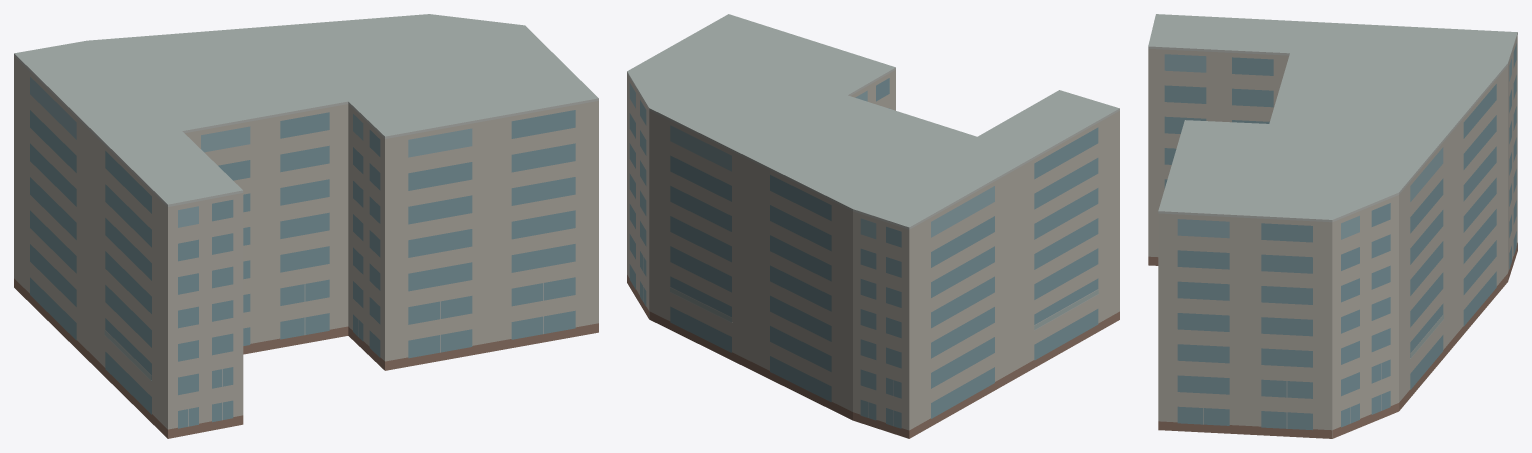
The model's file is survey-upis-32881349.glb.
3 views of the same model, side by side, from view 1: azimuth 30°, elevation 25°; view 2: azimuth 150°, elevation 25°; view 3: azimuth 270°, elevation 25° (orthographic). The views are drawn at different scales.
Parts seen in each view (by area): view 1: survey-upis-32881349.tmp; view 2: survey-upis-32881349.tmp; view 3: survey-upis-32881349.tmp.
Boxes of the visible parts, x1,y1,x2,y2 form: survey-upis-32881349.tmp: (14, 14, 598, 438); survey-upis-32881349.tmp: (627, 14, 1119, 438); survey-upis-32881349.tmp: (1148, 14, 1517, 438).
Bounding box in the file's own units: 46.31 × 22.95 × 35.12.
